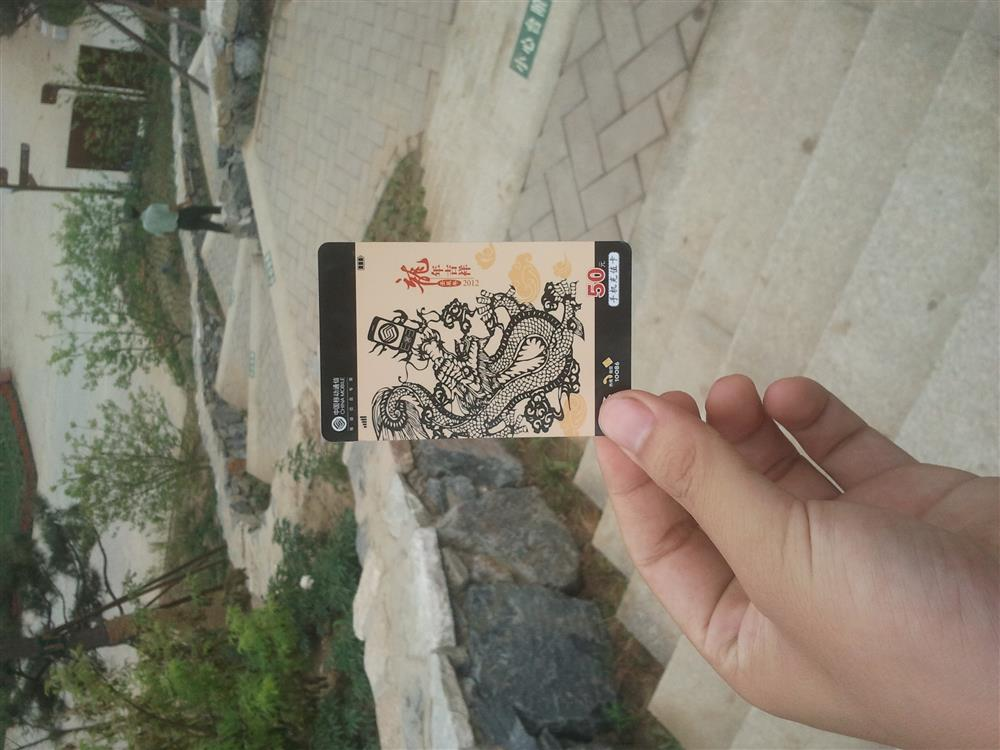china_mobile_card: (318, 240, 632, 440)
